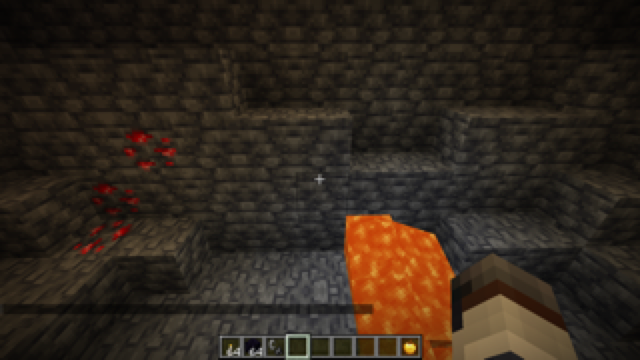redstone: (68, 184, 137, 256), (119, 125, 179, 177)
